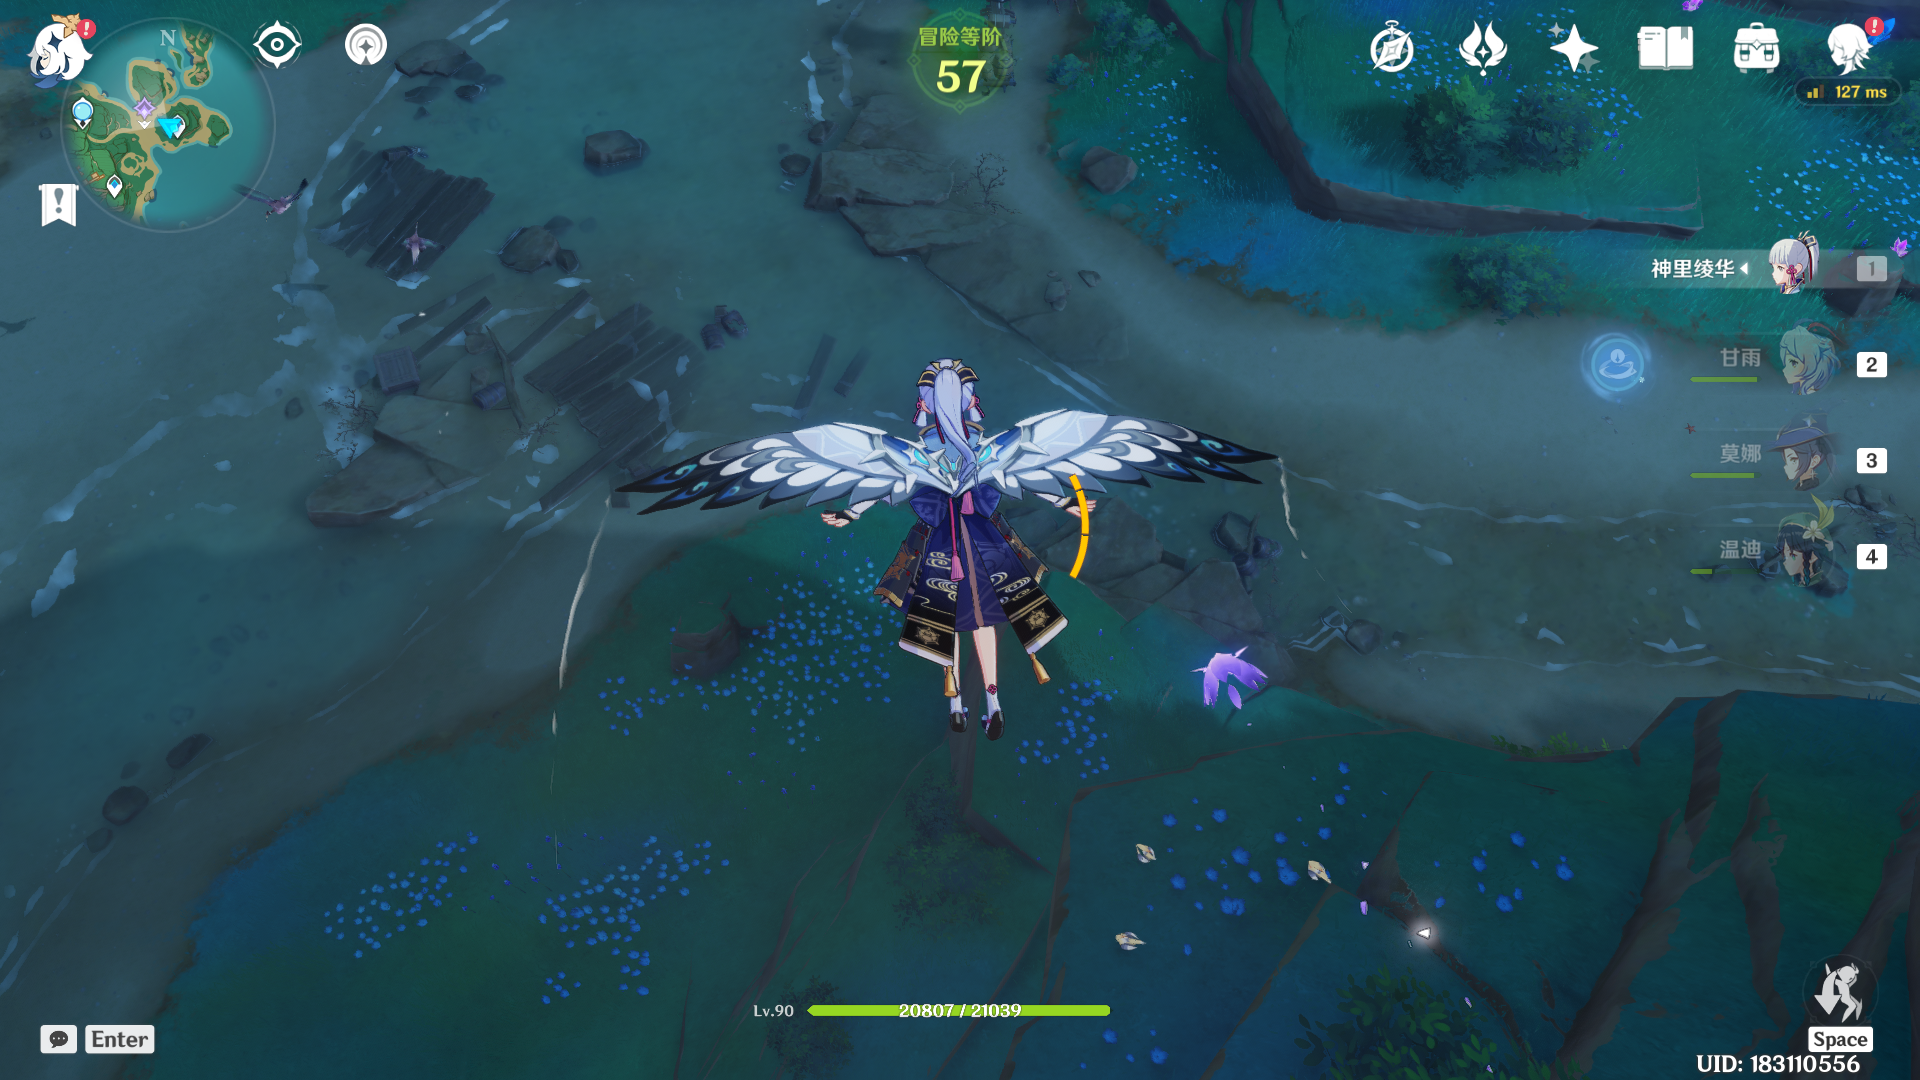character: (773, 338, 1075, 748)
